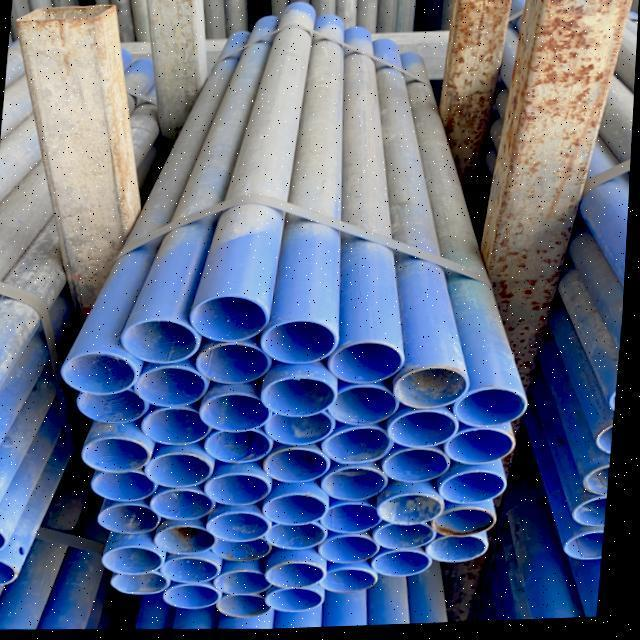pipe: (58, 344, 148, 402), (260, 316, 346, 372), (120, 316, 208, 370), (188, 292, 272, 348), (328, 339, 411, 392), (73, 380, 155, 431), (194, 341, 275, 392), (390, 366, 472, 416), (450, 384, 532, 434), (132, 362, 212, 412), (264, 376, 342, 424), (198, 388, 274, 437), (139, 403, 218, 450), (328, 384, 403, 430), (83, 432, 158, 478), (386, 410, 464, 454), (263, 410, 340, 453), (443, 427, 516, 472), (324, 424, 398, 468), (146, 448, 218, 493), (264, 446, 336, 490), (381, 492, 446, 540), (438, 467, 507, 512), (205, 429, 278, 471), (88, 464, 161, 506), (384, 447, 456, 488), (206, 468, 276, 510), (208, 509, 276, 552), (148, 486, 219, 527), (322, 466, 390, 508), (105, 540, 176, 580), (436, 504, 504, 544), (155, 523, 229, 559), (100, 498, 166, 538), (267, 492, 335, 530), (320, 532, 384, 572), (322, 497, 386, 537), (266, 558, 332, 596), (161, 554, 234, 588), (161, 582, 232, 616), (318, 568, 391, 600), (266, 523, 334, 557), (209, 534, 279, 566), (110, 569, 183, 599), (219, 566, 283, 600), (374, 548, 437, 582), (216, 592, 284, 622), (264, 590, 335, 618), (426, 540, 496, 568), (0, 553, 28, 586), (0, 519, 21, 558), (0, 488, 6, 526)
